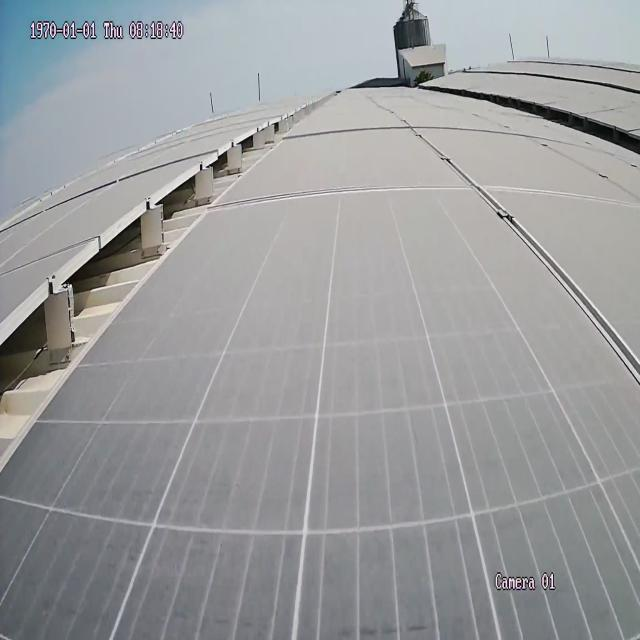interior panel: (407, 130, 638, 378)
outher panel: (2, 107, 315, 465), (456, 88, 639, 159)
